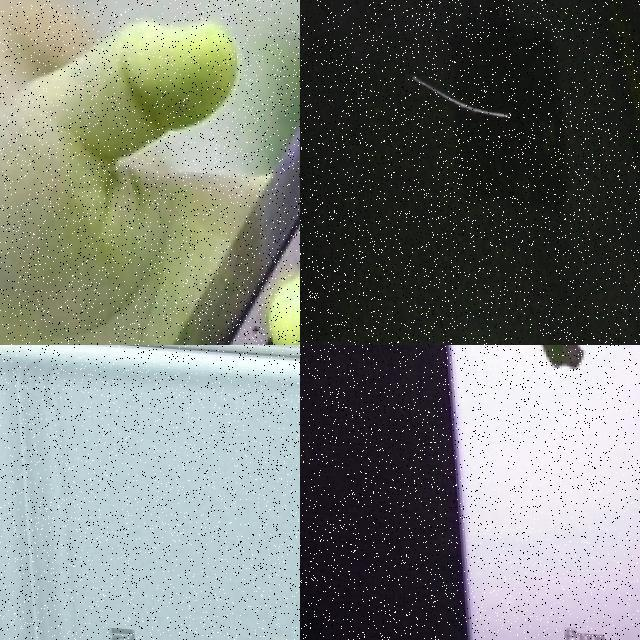scratch: (392, 46, 515, 136), (617, 63, 640, 223)
